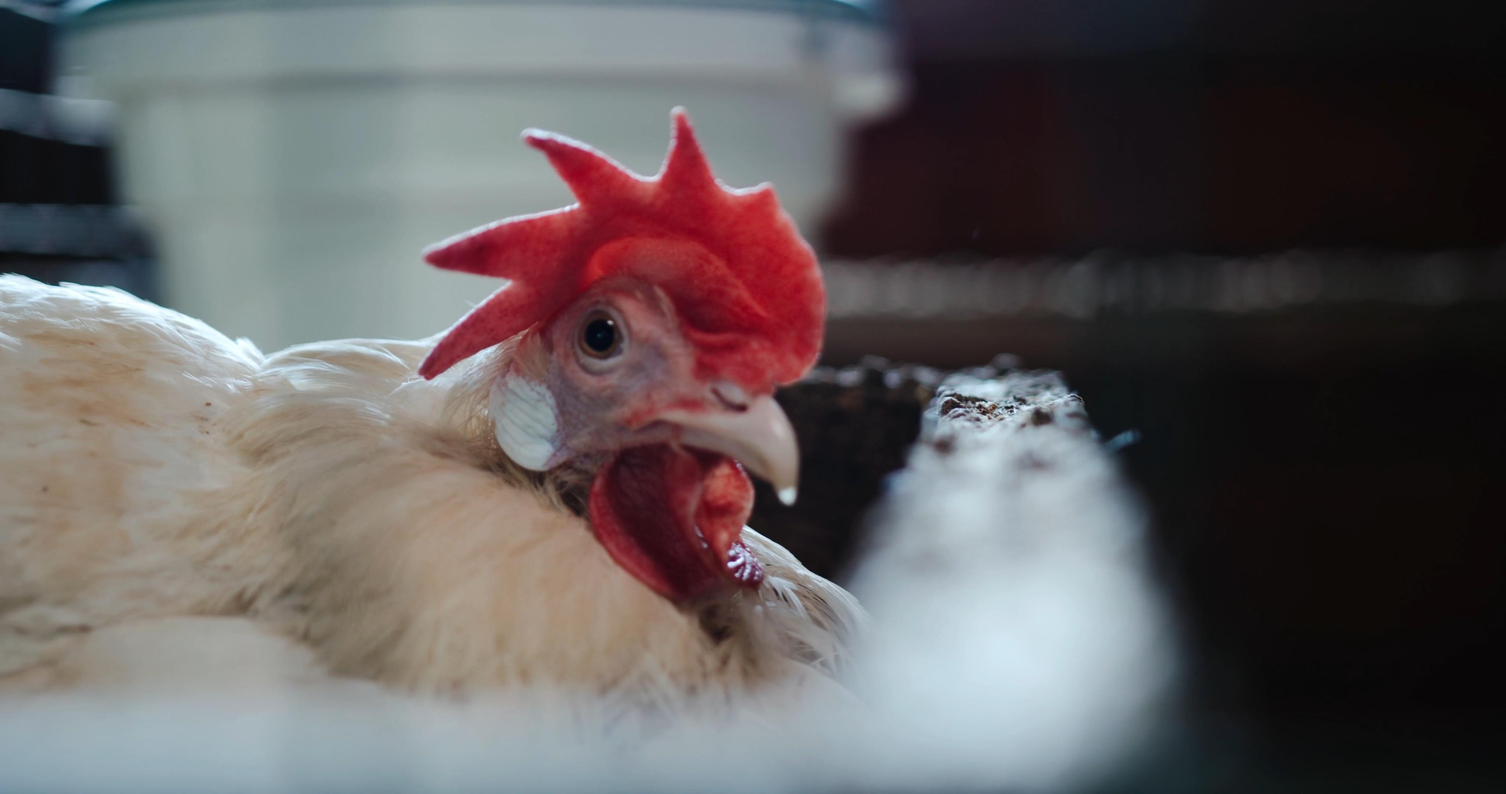Normal: (37, 131, 819, 702)
